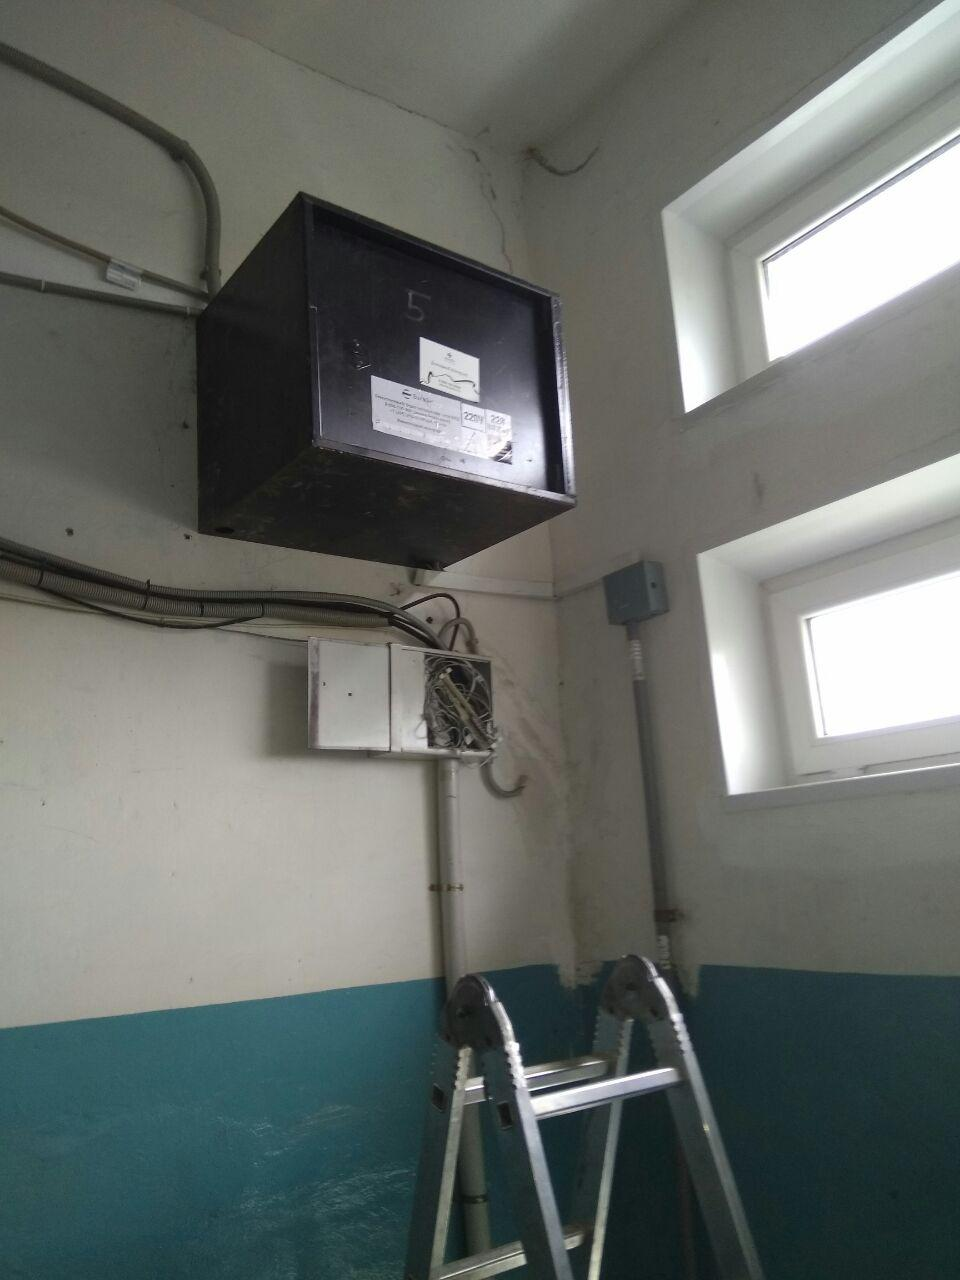shta-9m: (189, 180, 584, 582)
